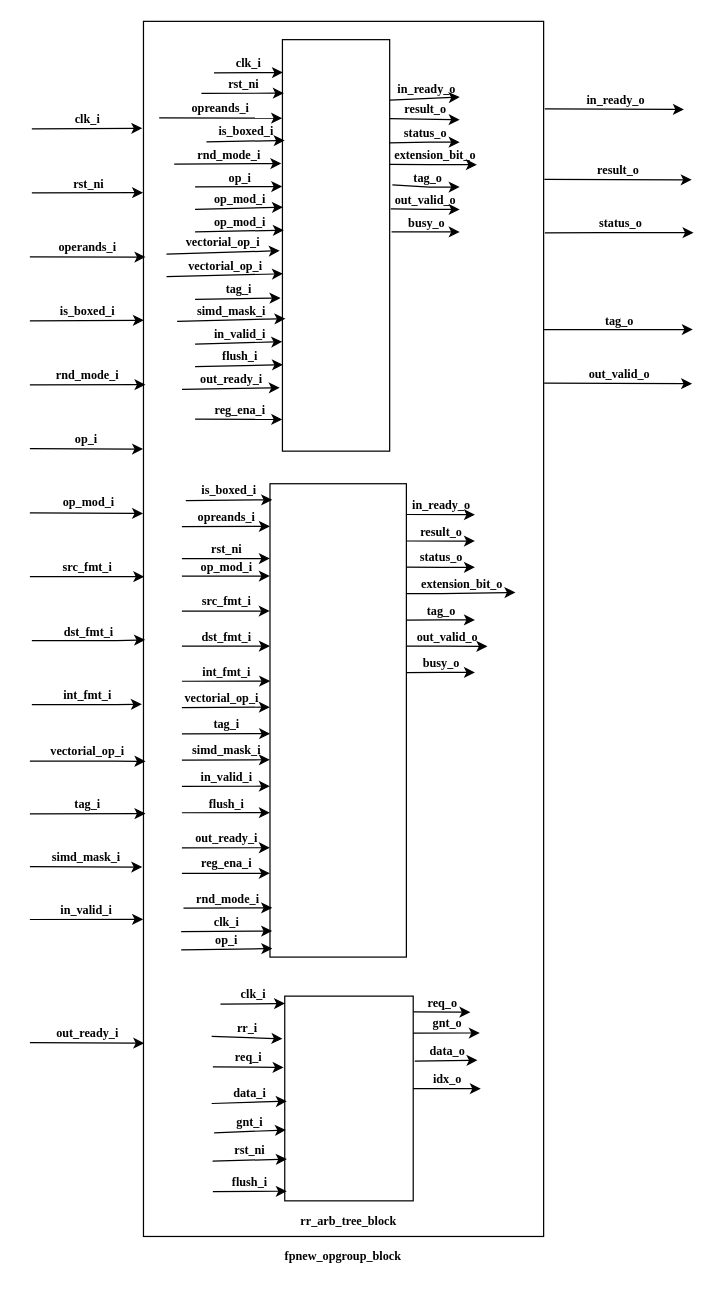
Some shapes in this 725 by 1290 pixel diagram are drawn without their labels. Each missing label, with the box of its shape:
fpnew_opgroup_multifmt_slide_block: (269, 483, 406, 957)
fpunew_opgroup_fmt_slice_block: (281, 38, 390, 451)
